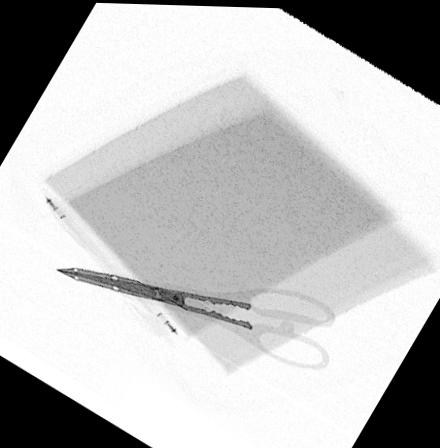Scissors: (52, 265, 335, 370)
